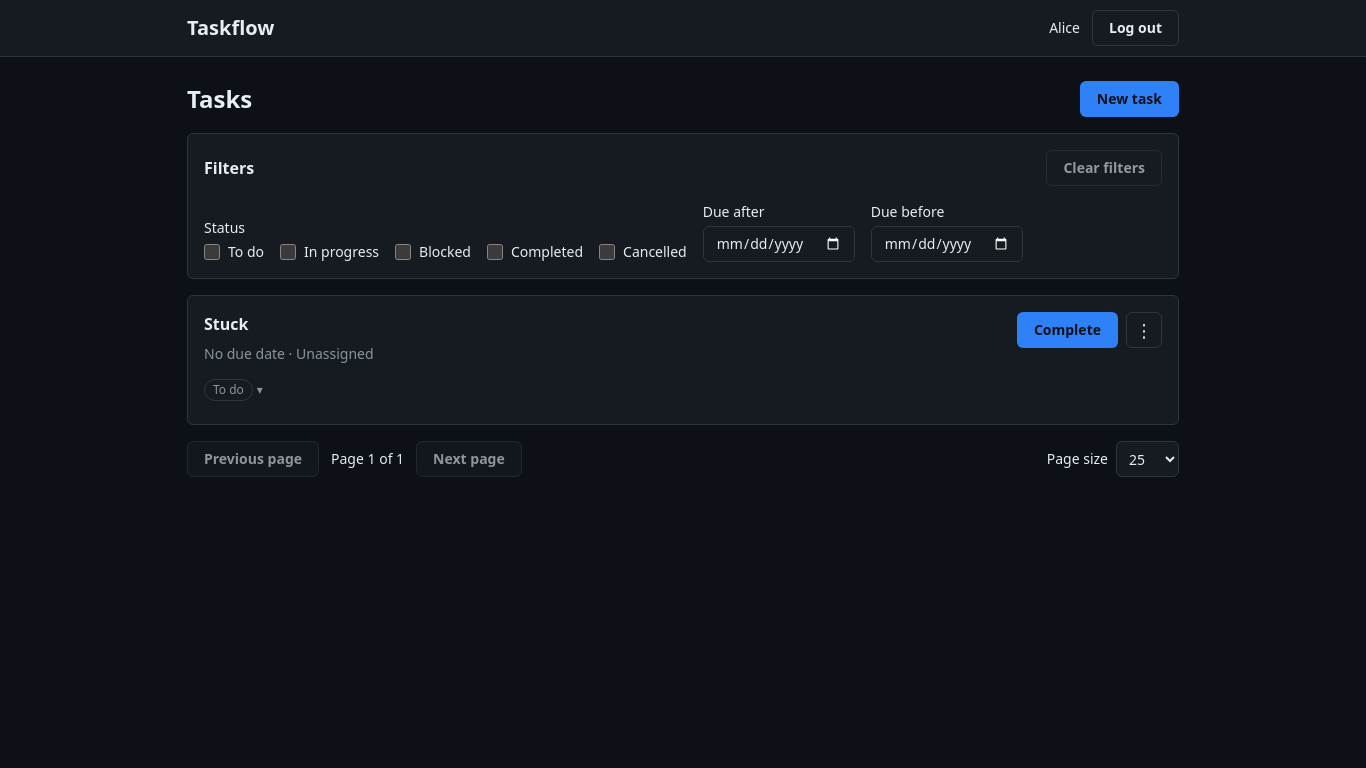
Scenario: status, complete and permissions › test_ac07_a_409_shows_an_error_and_the_task_keeps_its_status
This screenshot has width=1366, height=768.
Click the button with aria-label "change status".
click(233, 390)  # box [204,372,263,408]
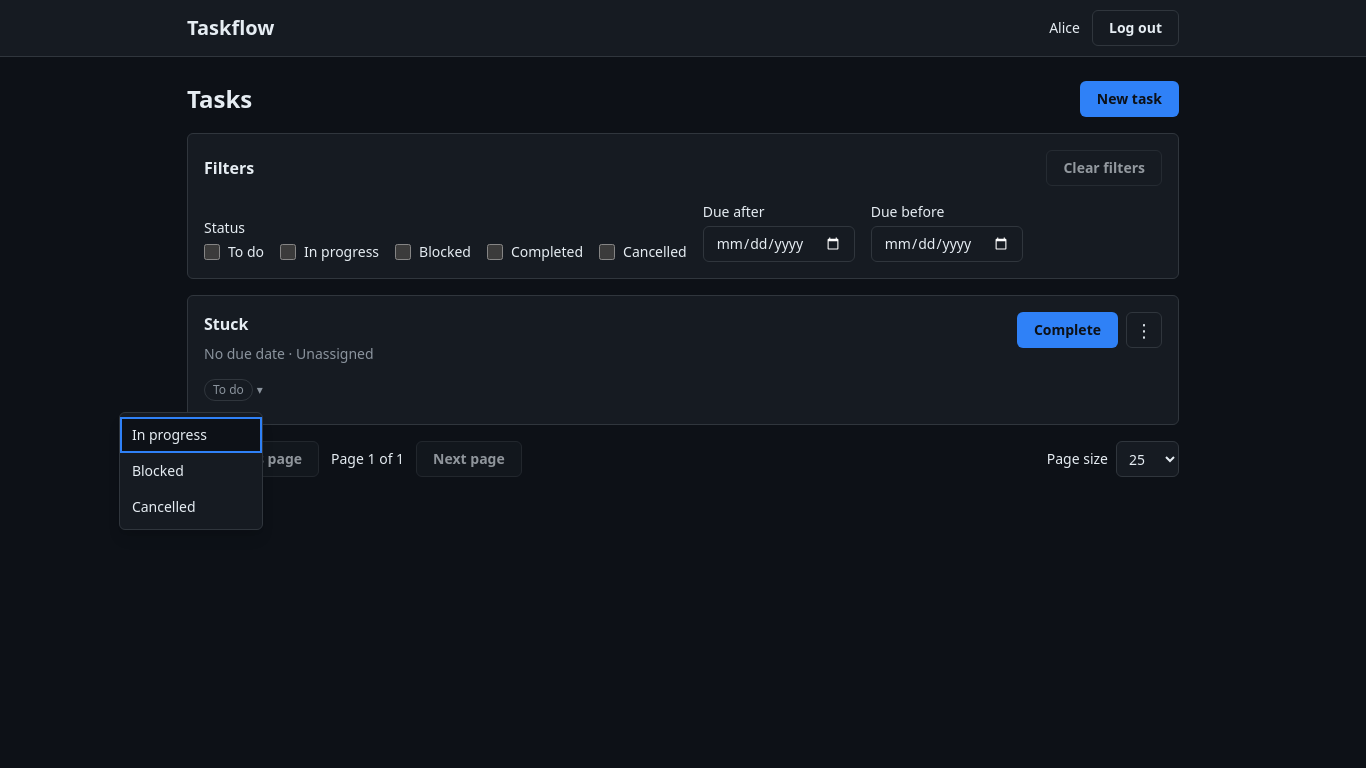
Click the menu item "Blocked".
click(191, 471)  # box [120,453,262,489]
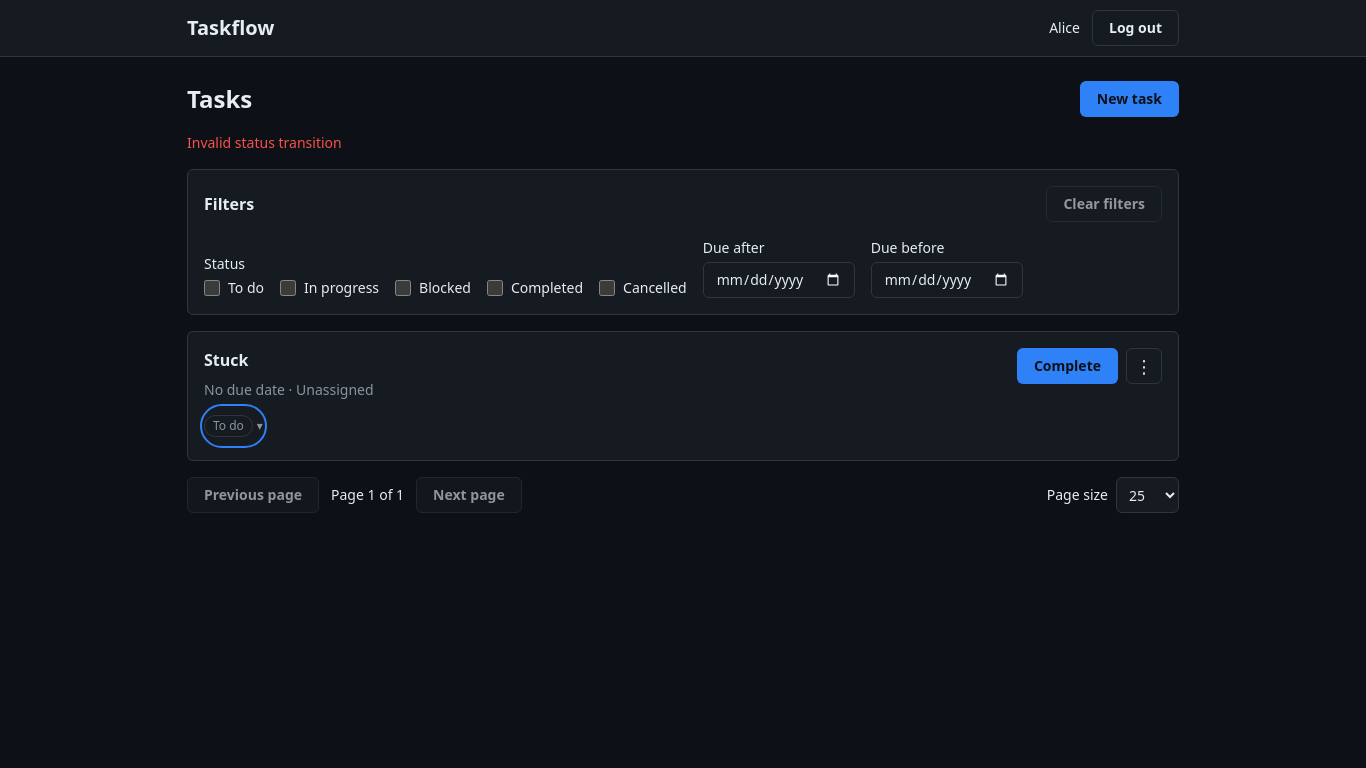
Expected: the text "To do" is shown, [204,415,253,437]
Result: the message reads "Invalid status transition" at [187,133,342,152]
